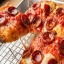pepperoni: (40, 30, 56, 43), (31, 50, 45, 61), (44, 17, 56, 29), (7, 5, 18, 15), (54, 6, 63, 17)
pizza: (17, 1, 64, 63), (1, 1, 29, 40)
